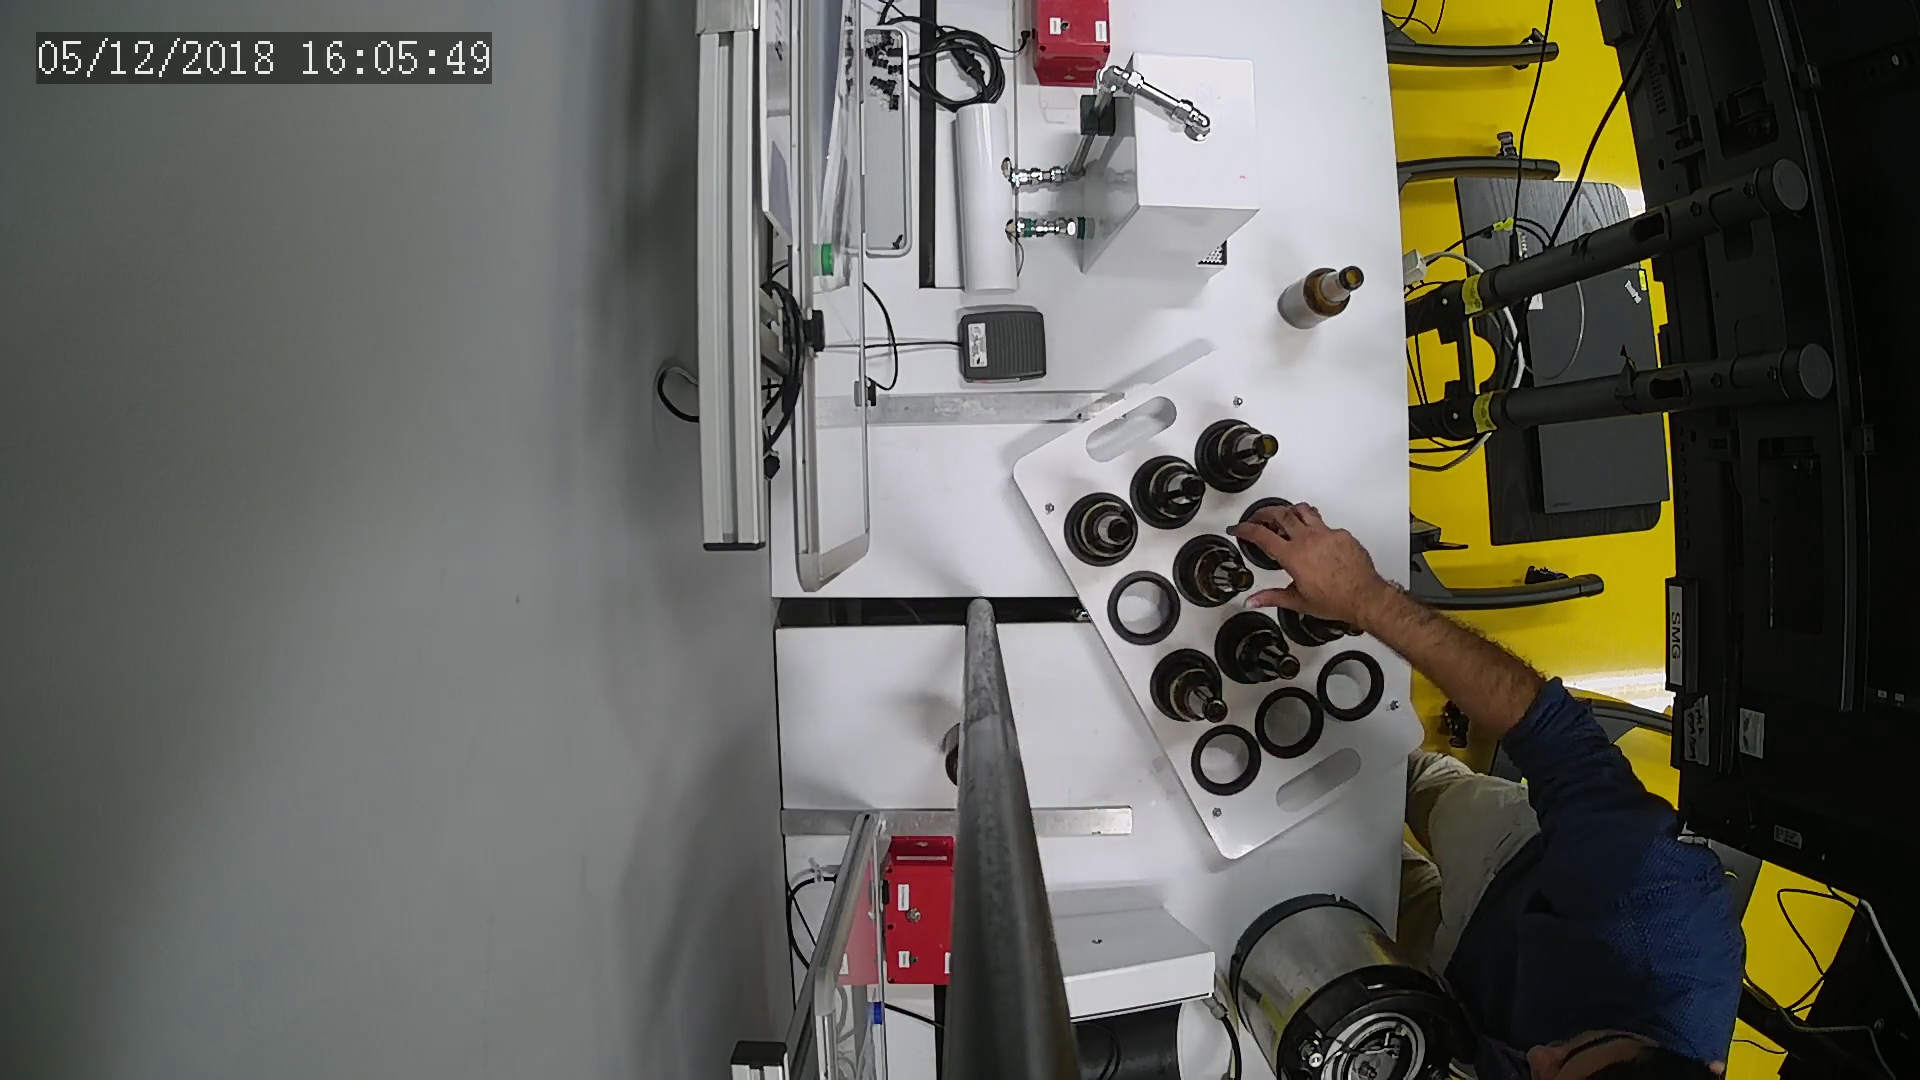filled_bottle: (1060, 491, 1143, 568), (1151, 653, 1232, 731), (1218, 611, 1303, 684), (1174, 535, 1261, 607), (1204, 419, 1283, 491), (1137, 454, 1208, 530)
trolley: (1006, 345, 1425, 861)
unfilled_bottle: (1273, 265, 1367, 330)
